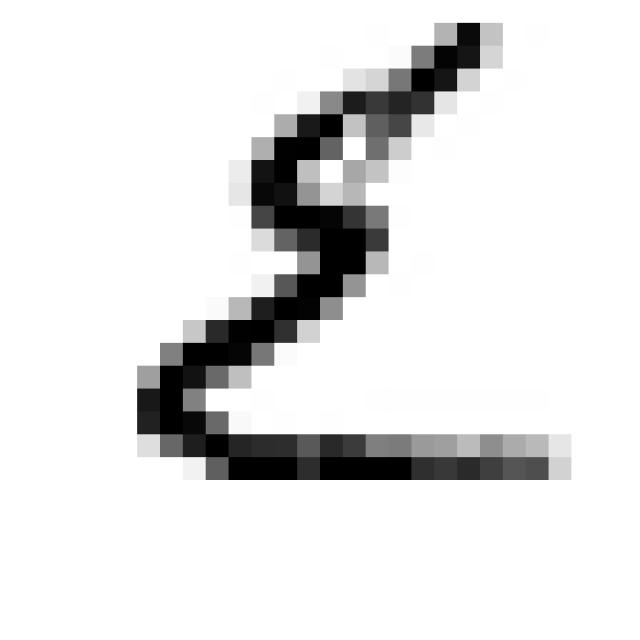4 -four-: (119, 11, 573, 508)
